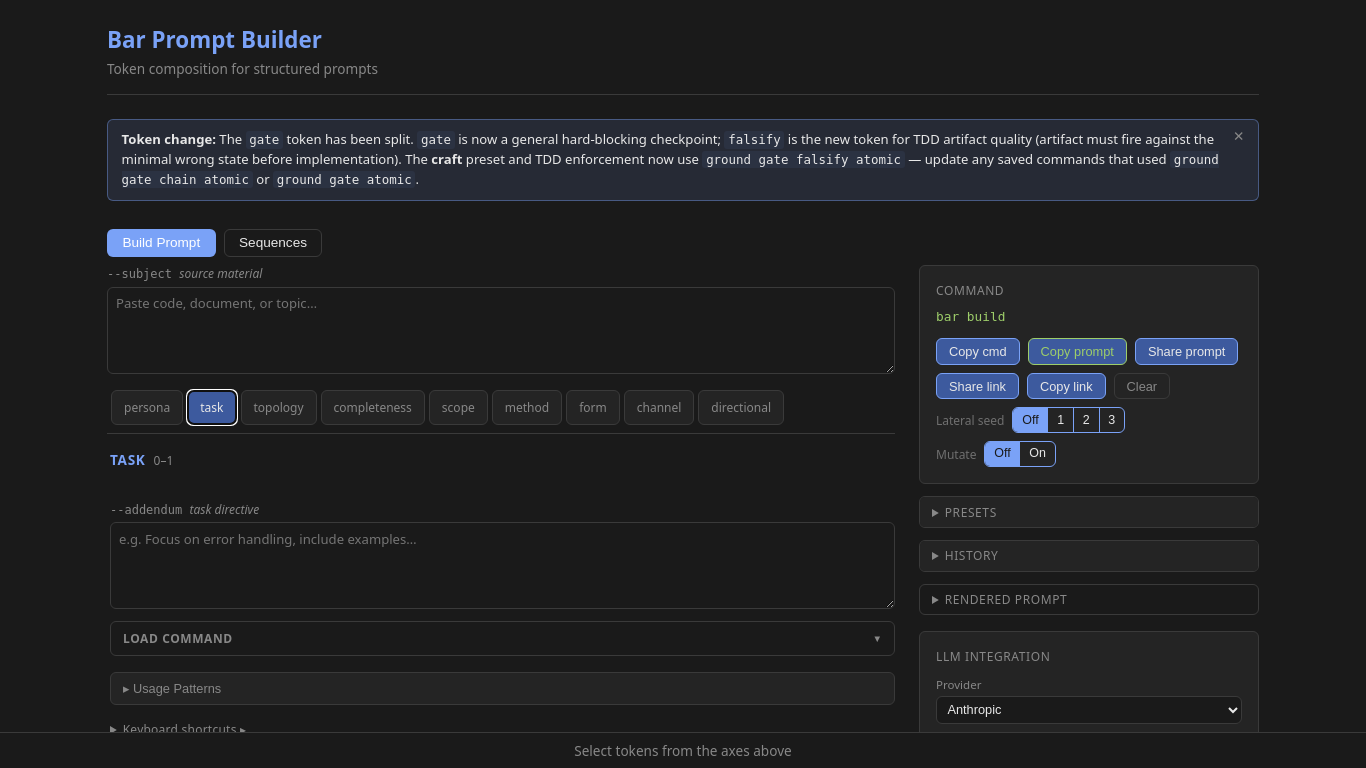
Test case: ADR-0170: Persona chip grids › CG-5: preset axis summary strip shows axis chips when a preset is active
Click the tab with class "tab" showing "persona".
click(147, 407)  # box [111,390,183,425]
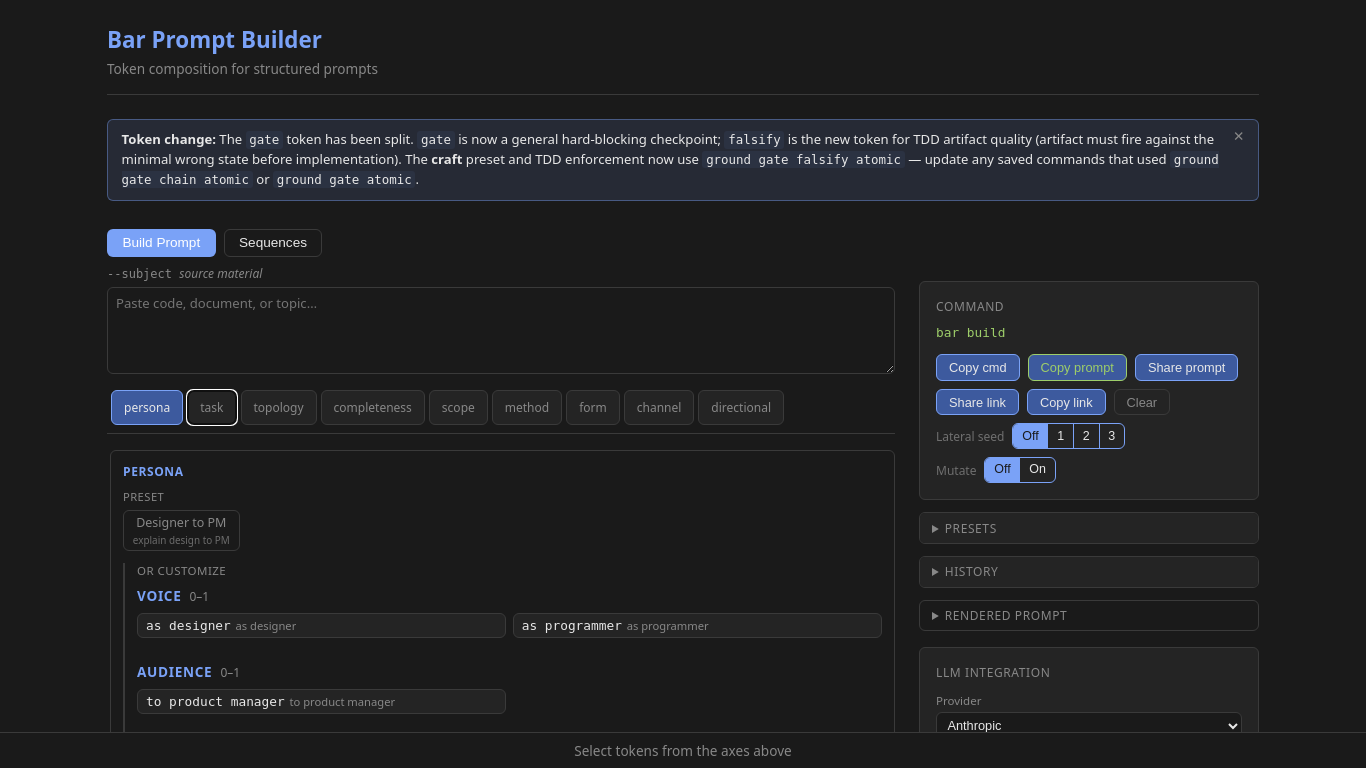
Click the button "Designer to PM explain design to PM".
click(181, 530)  # box [123,510,240,551]
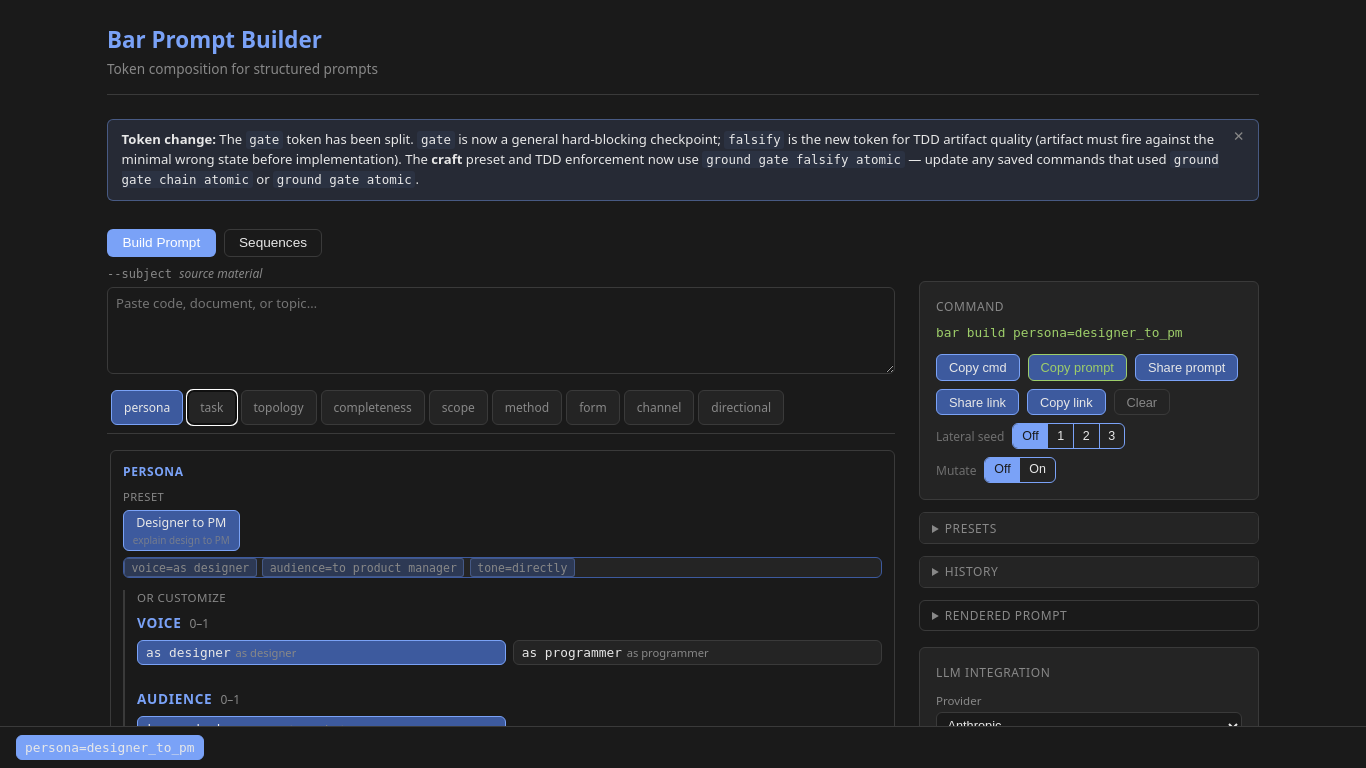
Result: the element showing "voice=as designer audience=to product manager tone=directly" is shown at [123,557,882,578]
